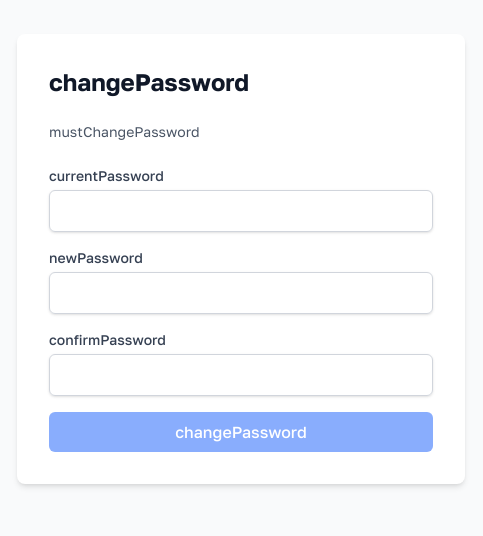
Scenario: ChangePassword.vue › criterion10: server error surfaces inside the form (no navigation)
The width and height of the screenshot is (483, 536).
Type "WrongCurrent!1" into the password field with id "currentPassword" at (241, 211), box [49, 190, 433, 232]
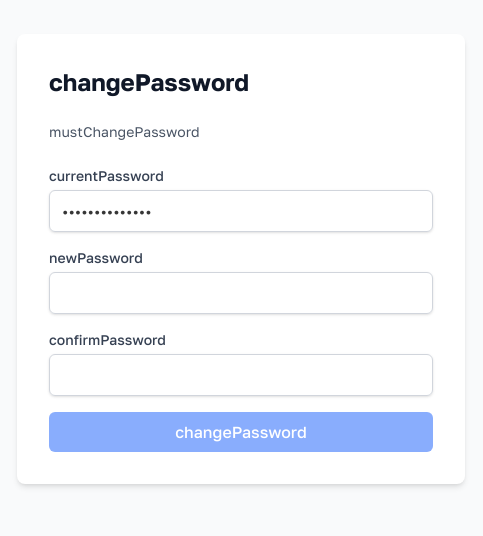
Type "NewSecure123!" into the password field with id "newPassword" at (241, 293), box [49, 272, 433, 314]
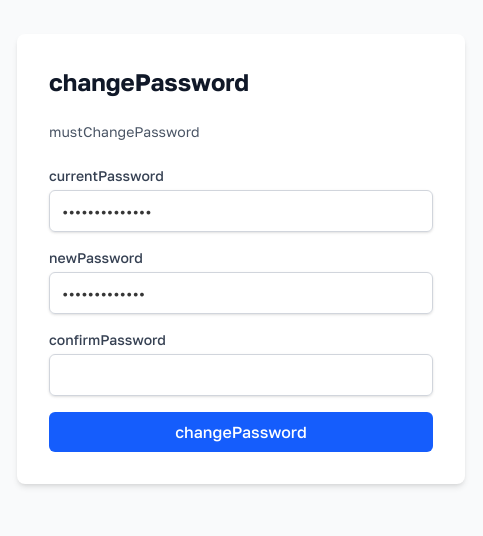
Type "NewSecure123!" into the password field with id "confirmPassword" at (241, 375), box [49, 354, 433, 396]
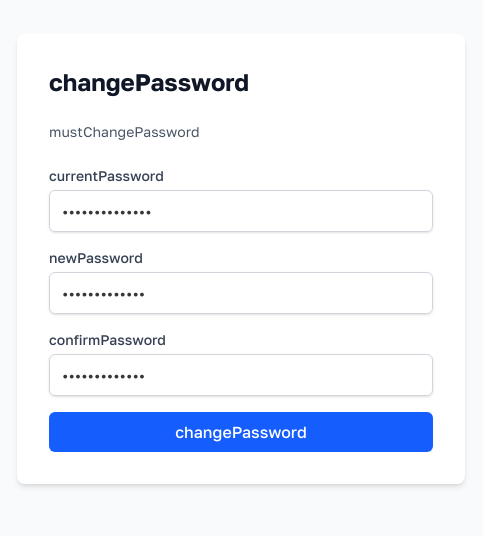
Submit the form, box [49, 166, 433, 452]
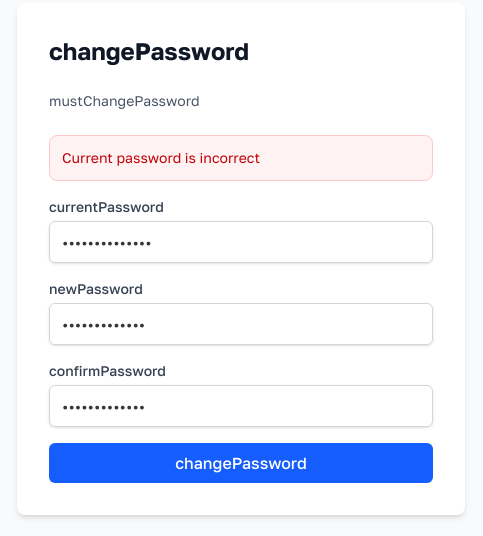
Expected: the text "Current password is incorrect" is shown, [49, 135, 433, 181]
